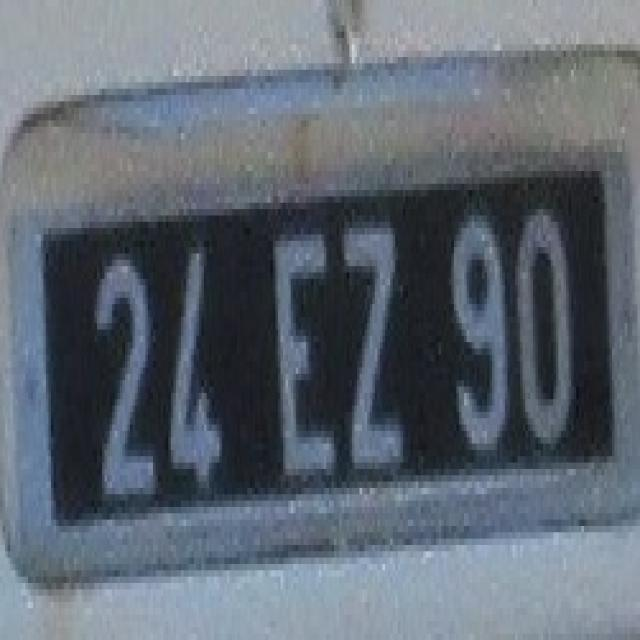Autre: (25, 139, 609, 526)
